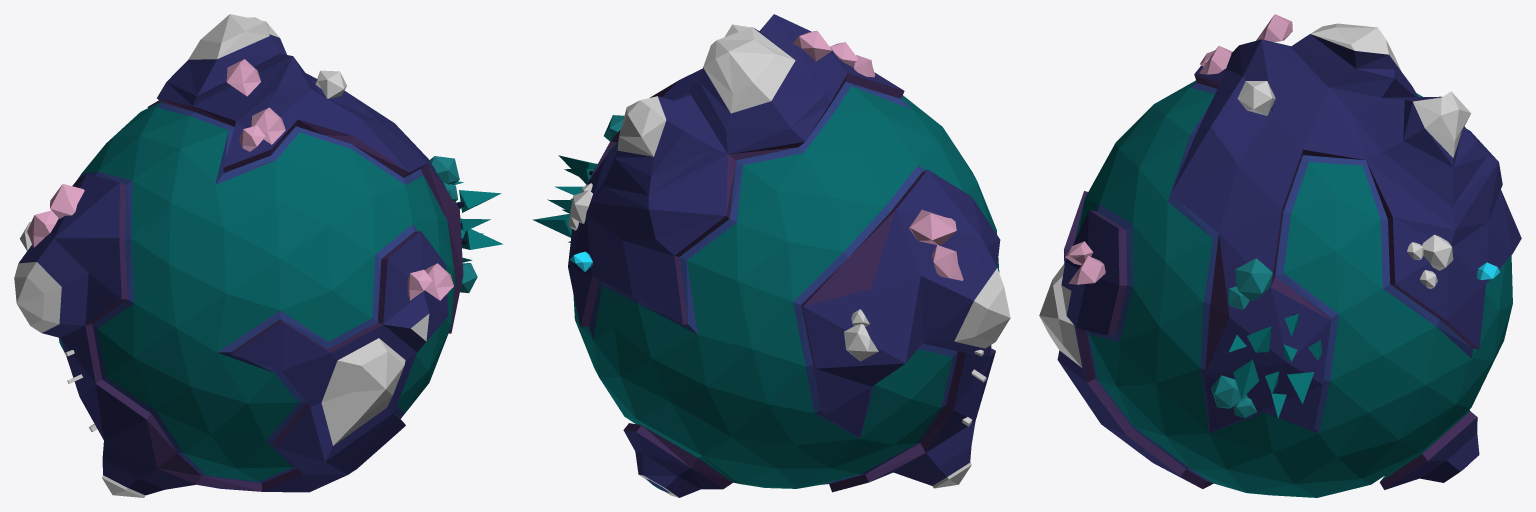
The model's file is watchC_planet03.dae.
3 views of the same model, side by side, from view 1: azimuth 30°, elevation 25°; view 2: azimuth 150°, elevation 25°; view 3: azimuth 270°, elevation 25° (orthographic). The views are drawn at different scales.
Parts seen in each view (by area): view 1: Icosphere-001; view 2: Icosphere-001; view 3: Icosphere-001.
Boxes of the visible parts, x1,y1,x2,y2 form: Icosphere-001: (14, 14, 502, 497); Icosphere-001: (532, 14, 1010, 497); Icosphere-001: (1039, 14, 1521, 497).
Size of the model in its own units: 2.6 by 2.27 by 2.17.
